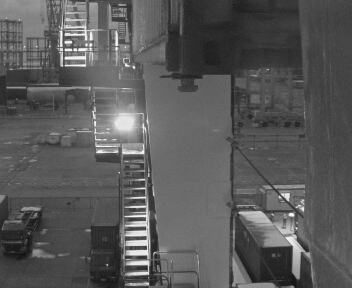twist_lock_1: (164, 68, 207, 99)
